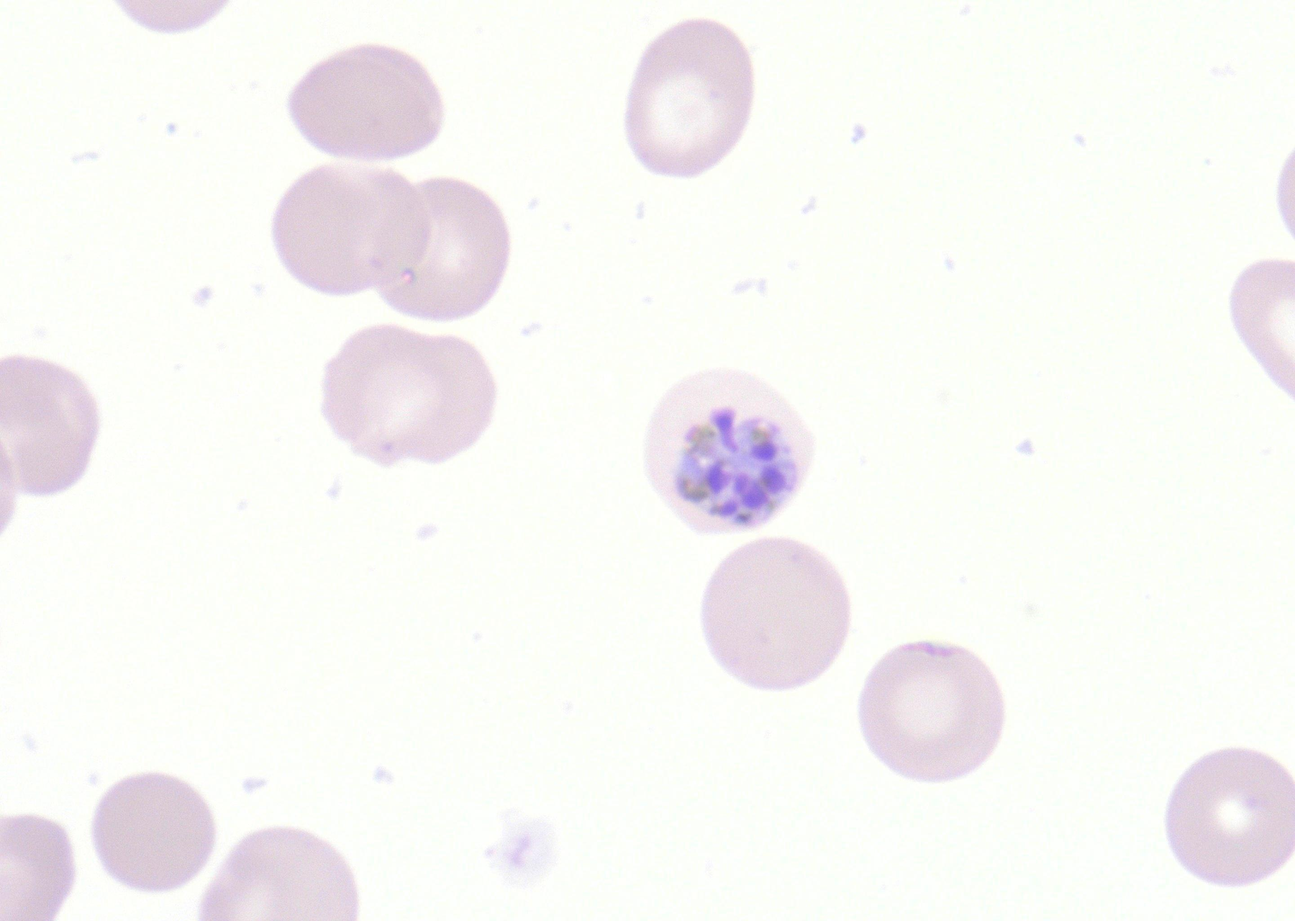Infected: (642, 366, 819, 534)
Uninfected: (318, 324, 495, 467), (700, 535, 849, 693), (270, 158, 430, 293), (627, 15, 757, 181), (856, 643, 1001, 782), (372, 177, 510, 322), (1168, 750, 1295, 890), (289, 47, 446, 160), (204, 823, 359, 921), (90, 772, 221, 885), (0, 356, 101, 492)
